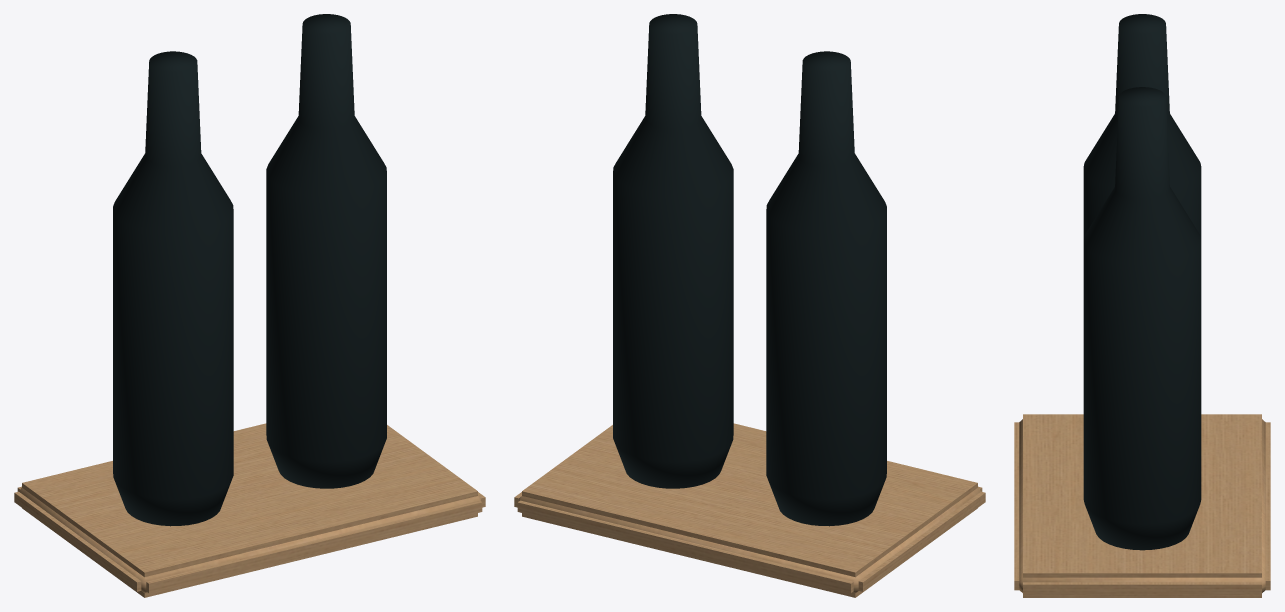
File: shared.bottles.gltf
The picture shows the model from 3 angles, left to right: view 1: azimuth 30°, elevation 25°; view 2: azimuth 150°, elevation 25°; view 3: azimuth 270°, elevation 25°; orthographic projection. The views are drawn at different scales.
Parts seen in each view (by area): view 1: shared.bottles.tray; view 2: shared.bottles.tray; view 3: shared.bottles.tray.
Part boxes in pixels (left/top/right/bottom): shared.bottles.tray: left=14, top=14, right=485, bottom=597; shared.bottles.tray: left=514, top=14, right=985, bottom=597; shared.bottles.tray: left=1014, top=14, right=1270, bottom=597.
Size of the model in its own units: 0.23 by 0.296 by 0.15.
2 materials, 1 textured.
